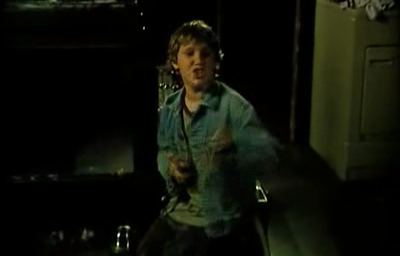face: (181, 45, 213, 85)
ms: (1, 1, 400, 256)
person: (157, 20, 283, 255)
